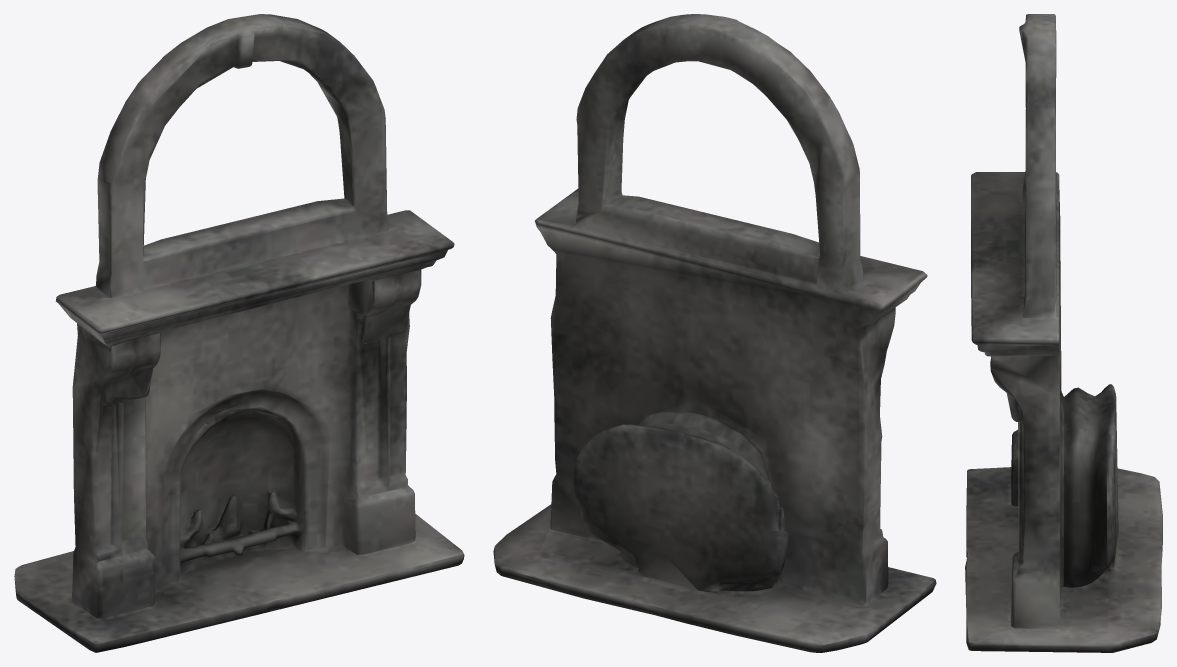
The model's file is weathered-granite-fireplace-v001.glb.
3 views of the same model, side by side, from view 1: azimuth 30°, elevation 25°; view 2: azimuth 150°, elevation 25°; view 3: azimuth 270°, elevation 25° (orthographic). The views are drawn at different scales.
Visible parts, largest first — view 1: weathered-granite-fireplace; view 2: weathered-granite-fireplace; view 3: weathered-granite-fireplace.
Part boxes in pixels (x1,y1,x2,y2): weathered-granite-fireplace: (14, 14, 464, 652); weathered-granite-fireplace: (493, 14, 936, 652); weathered-granite-fireplace: (965, 14, 1162, 652).
Bounding box in the file's own units: 1.34 × 1.89 × 0.6282.
Materials: 1 (1 with a texture image).
